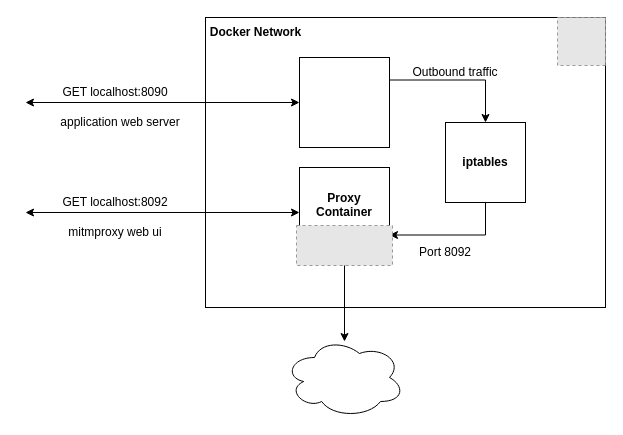
The diagram is 623 pixels wide and 435 high, and some of its shapes have lost their labels. Grey dashed boxes stand in for pictures. The centre of each missing label's shape, as x and y in pixels:
Application Container (python server): (344,102)
Internet: (344,377)
